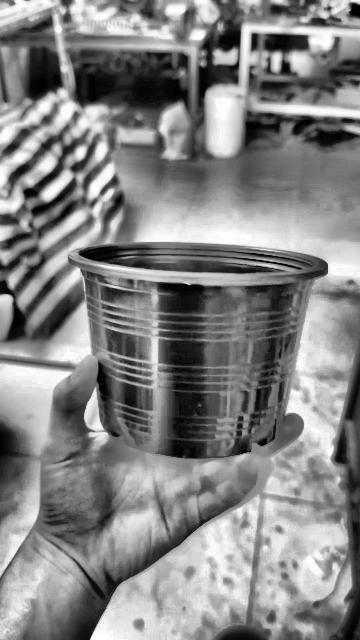pot: (68, 243, 326, 458)
